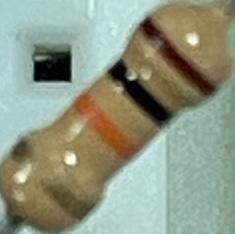Black: (106, 55, 181, 132)
Brown: (136, 14, 217, 100)
Orange: (70, 88, 146, 166)
Side-Silver: (10, 135, 98, 222)
